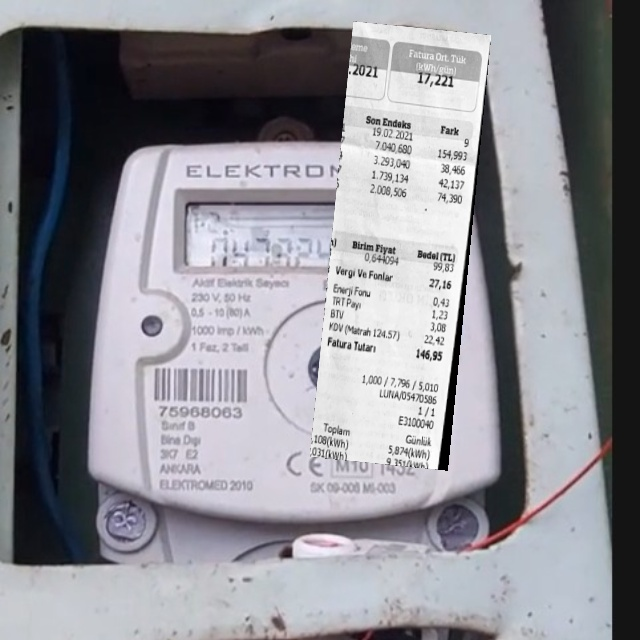electricity-bill: (309, 21, 491, 471)
